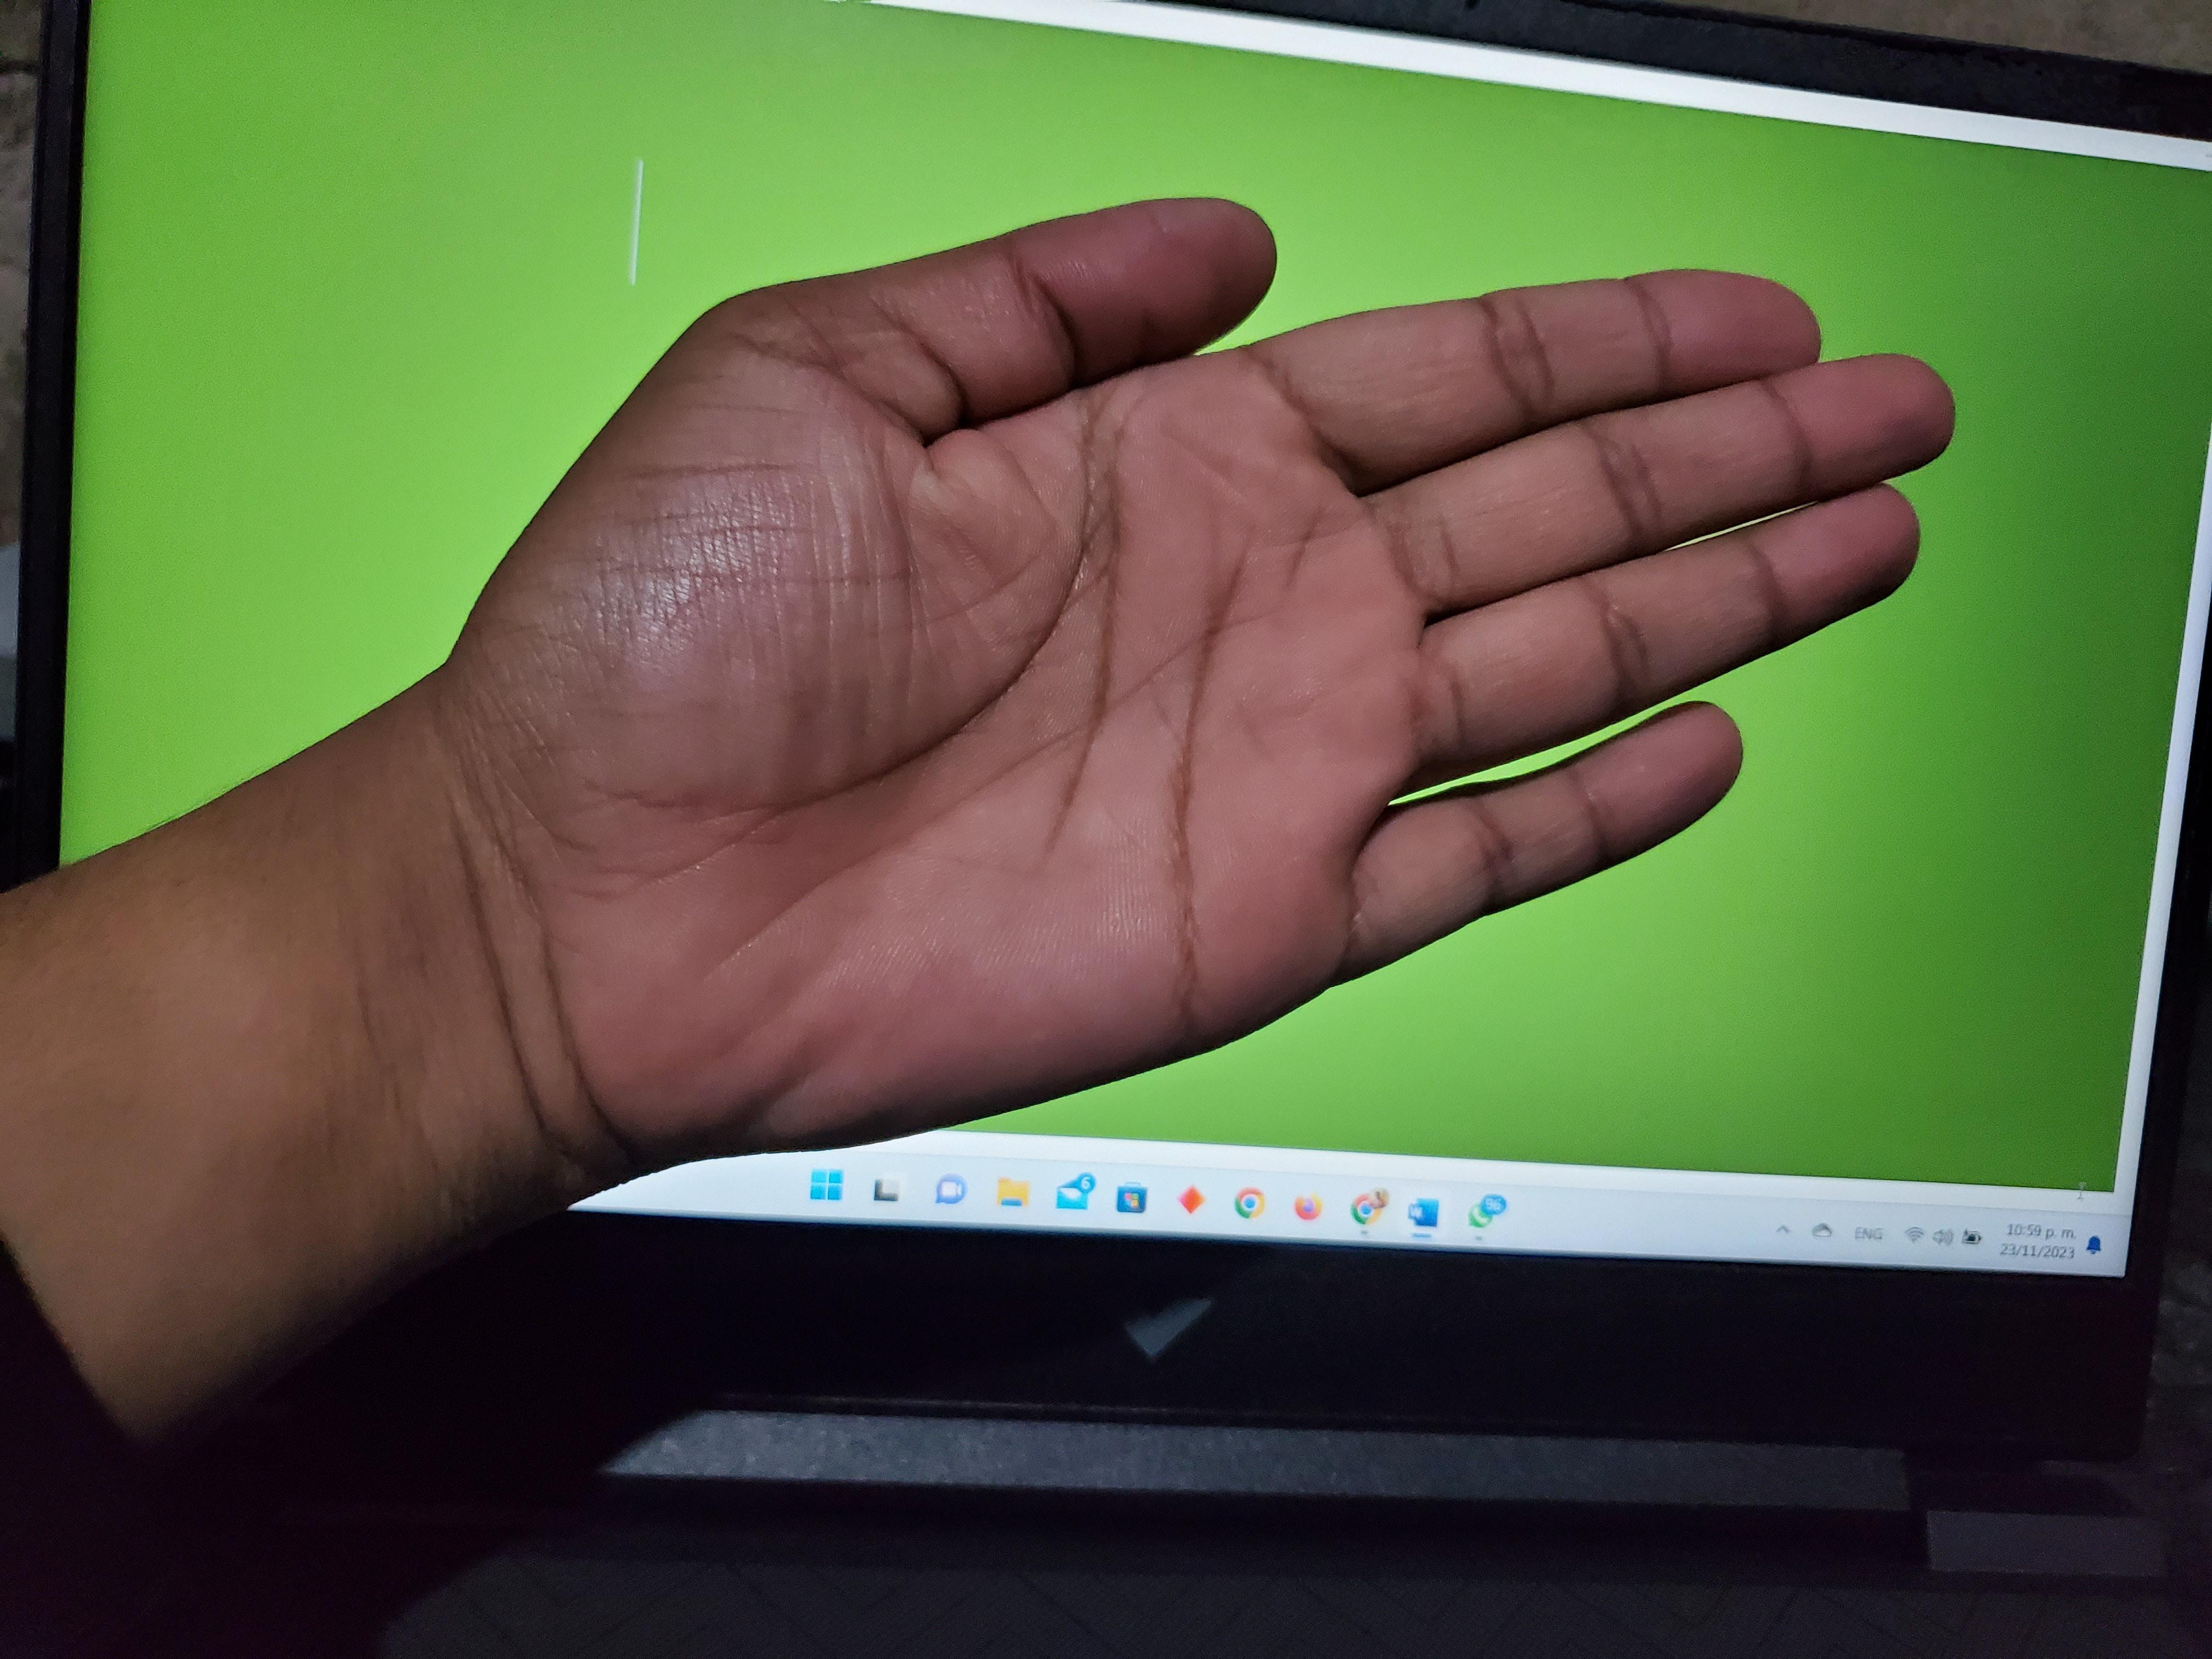Paper: (66, 28, 2064, 1286)
